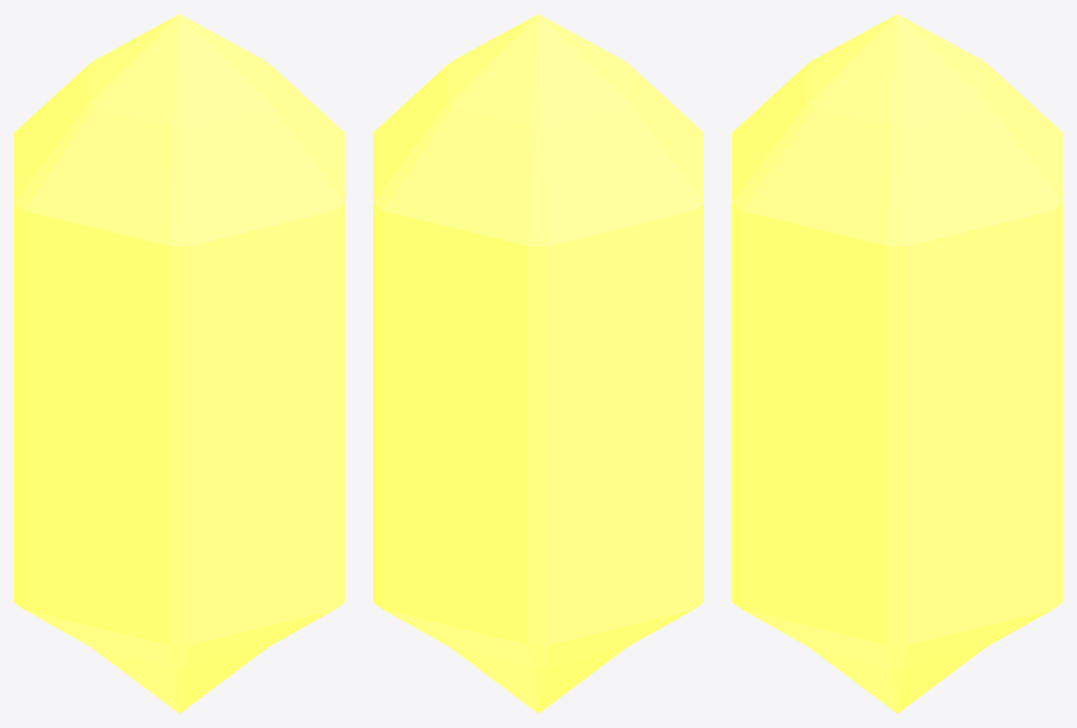
File: fragment_collectible.glb
The picture shows the model from 3 angles, left to right: view 1: azimuth 30°, elevation 25°; view 2: azimuth 150°, elevation 25°; view 3: azimuth 270°, elevation 25°; orthographic projection.
Visible parts, largest first — view 1: Fragment_Collectible; view 2: Fragment_Collectible; view 3: Fragment_Collectible.
Boxes of the visible parts, x1,y1,x2,y2 form: Fragment_Collectible: (14,14,344,713); Fragment_Collectible: (373,14,703,713); Fragment_Collectible: (732,14,1062,713).
Bounding box in the file's own units: 0.0479 × 0.1 × 0.0428.
